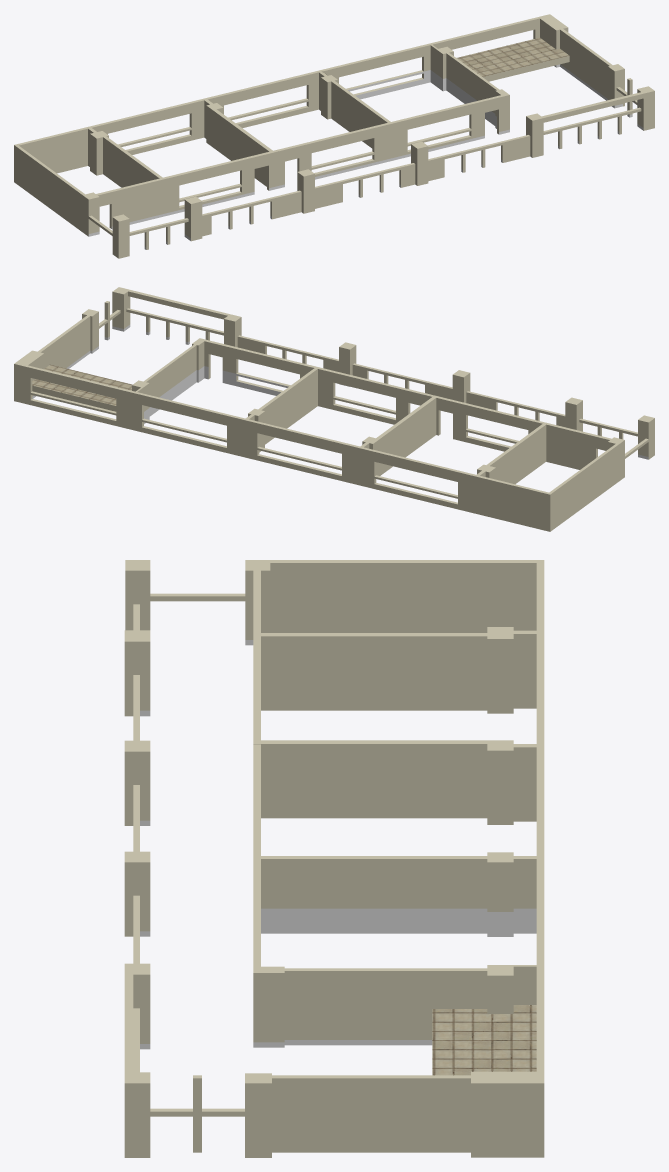
File: 3rd_Walls.fbx
The picture shows the model from 3 angles, top to bottom: view 1: azimuth 30°, elevation 25°; view 2: azimuth 150°, elevation 25°; view 3: azimuth 270°, elevation 25°; orthographic projection. The views are drawn at different scales.
Parts seen in each view (by area): view 1: 3rd_Walls; view 2: 3rd_Walls; view 3: 3rd_Walls.
Part boxes in pixels (x1,y1,x2,y2): 3rd_Walls: (14,14,654,258); 3rd_Walls: (14,287,654,531); 3rd_Walls: (124,560,544,1157).
Size of the model in its own units: 4518 by 300 by 1531.
Materials: 3 (2 with a texture image).
